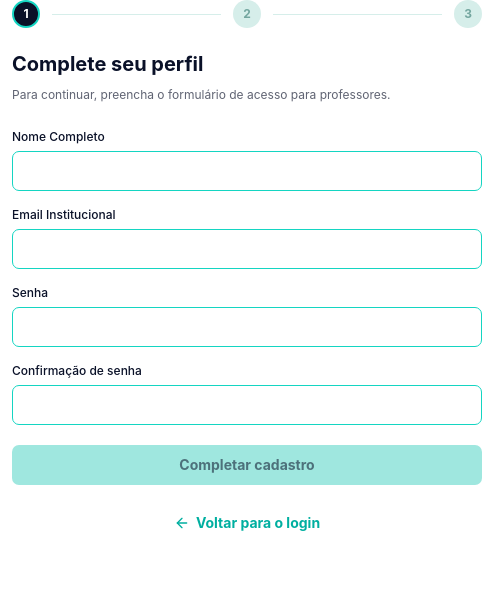
Test: RegisterProfessorForm › remove caracteres nao numericos do SIAPE
This screenshot has width=499, height=609.
Step 1. Type "Hilmer Rodrigues Neri" into the field labelled "Nome Completo" → {"x": 247, "y": 171}, box [12,151,482,191]
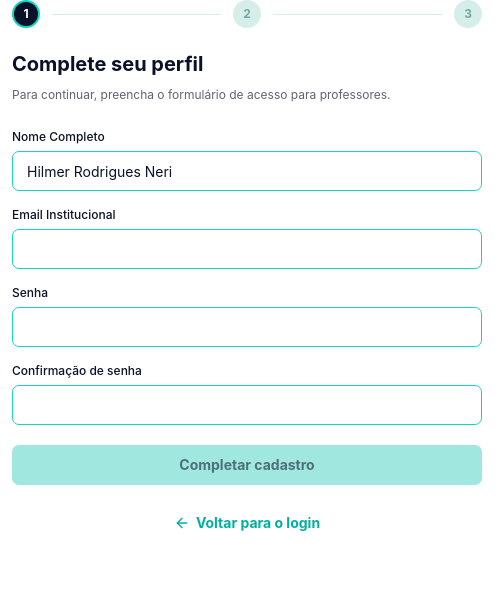
Step 2. Type "hilmer@unb.br" into the field labelled "Email Institucional" → {"x": 247, "y": 249}, box [12,229,482,269]
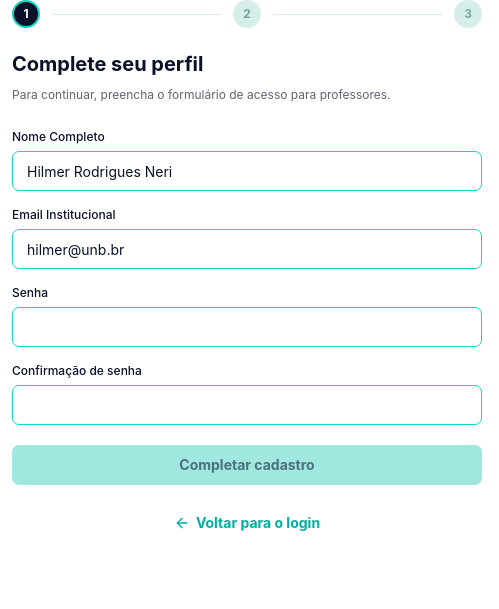
Step 3. Type "senhaValida123" into the password field labelled "Senha" → {"x": 247, "y": 327}, box [12,307,482,347]
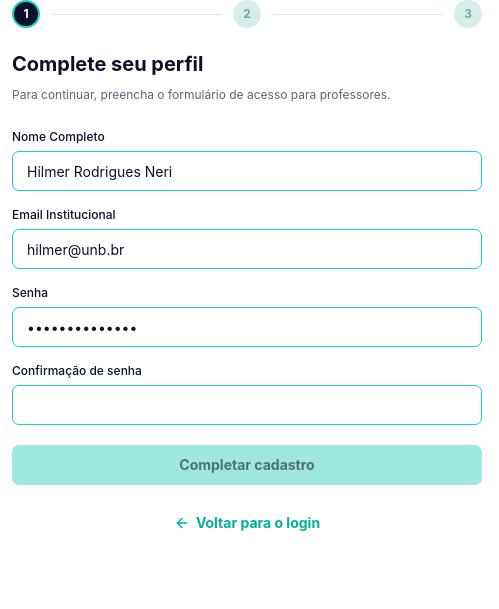
Step 4. Type "senhaValida123" into the password field labelled "Confirmação de senha" → {"x": 247, "y": 405}, box [12,385,482,425]
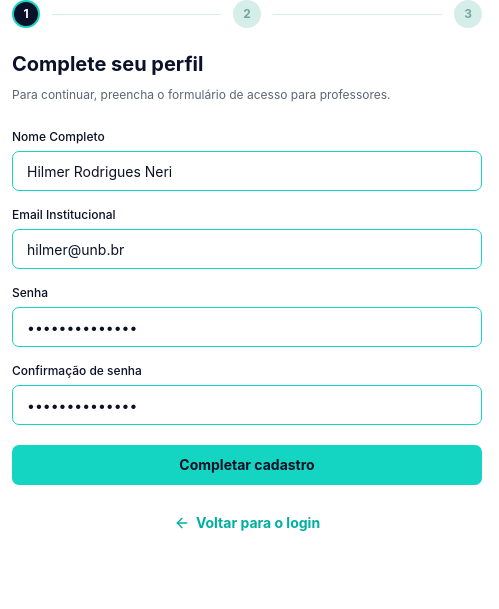
Step 5. Click the button "Completar cadastro" → {"x": 247, "y": 465}, box [12,445,482,485]
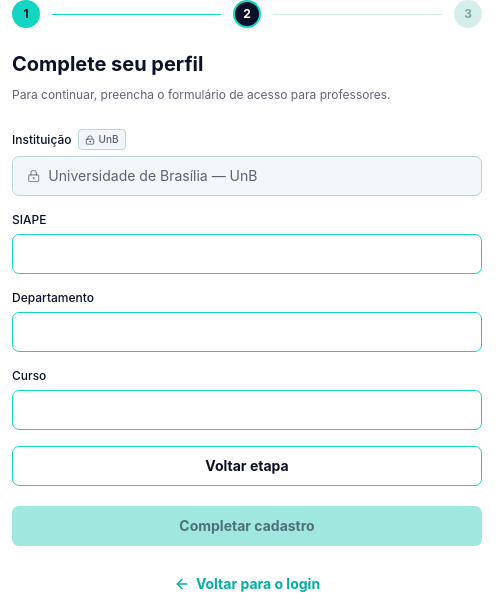
Expected: the field labelled "Instituição" is shown, [48,166,467,186]
Step 6. Type "12a34-567" into the field labelled "SIAPE" → {"x": 247, "y": 254}, box [12,234,482,274]
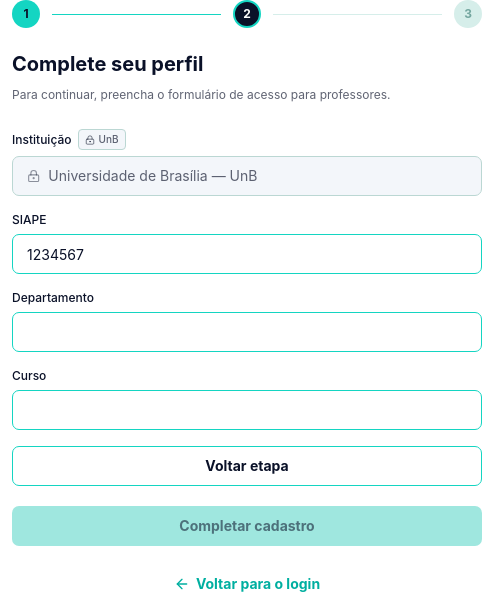
Expected: the field labelled "SIAPE" holds "1234567", [12,234,482,274]
